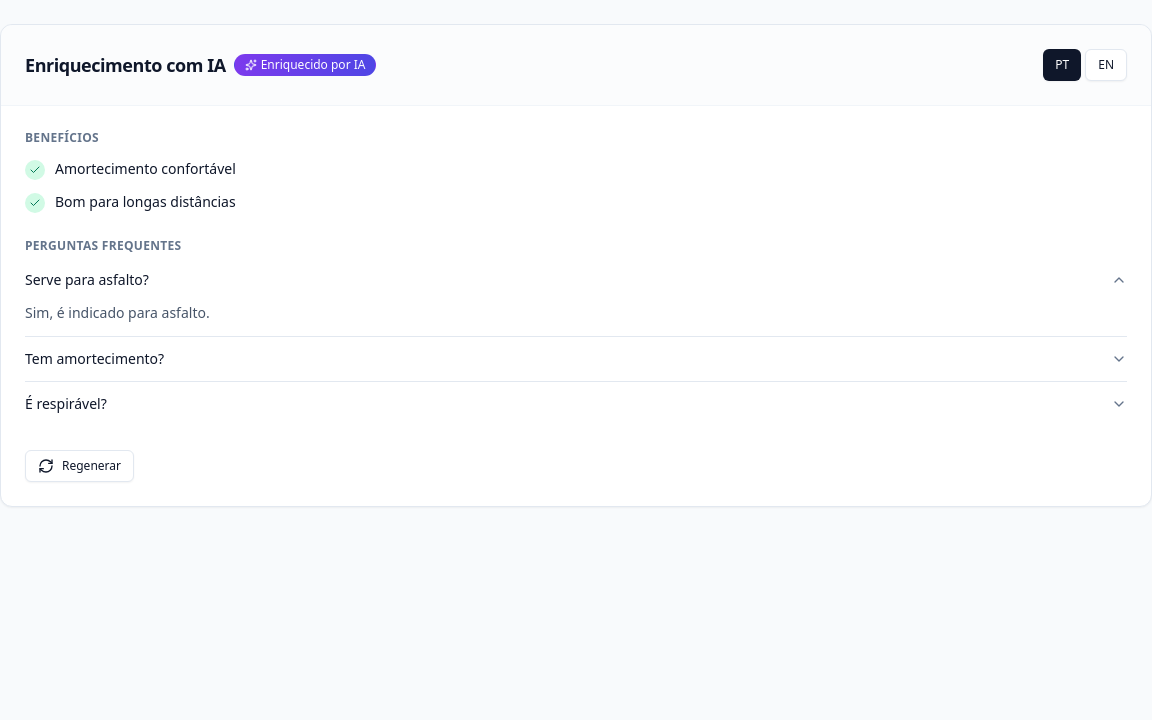
Test: ProductAIWidget — modo JSON › (h) trocar para EN dispara novo fetch com locale 'en' e traduz a UI
Expected: the text "Amortecimento confortável" is shown, [55,158,236,181]
Click the button "EN" at point(1106, 65), box [1085,49,1127,81]
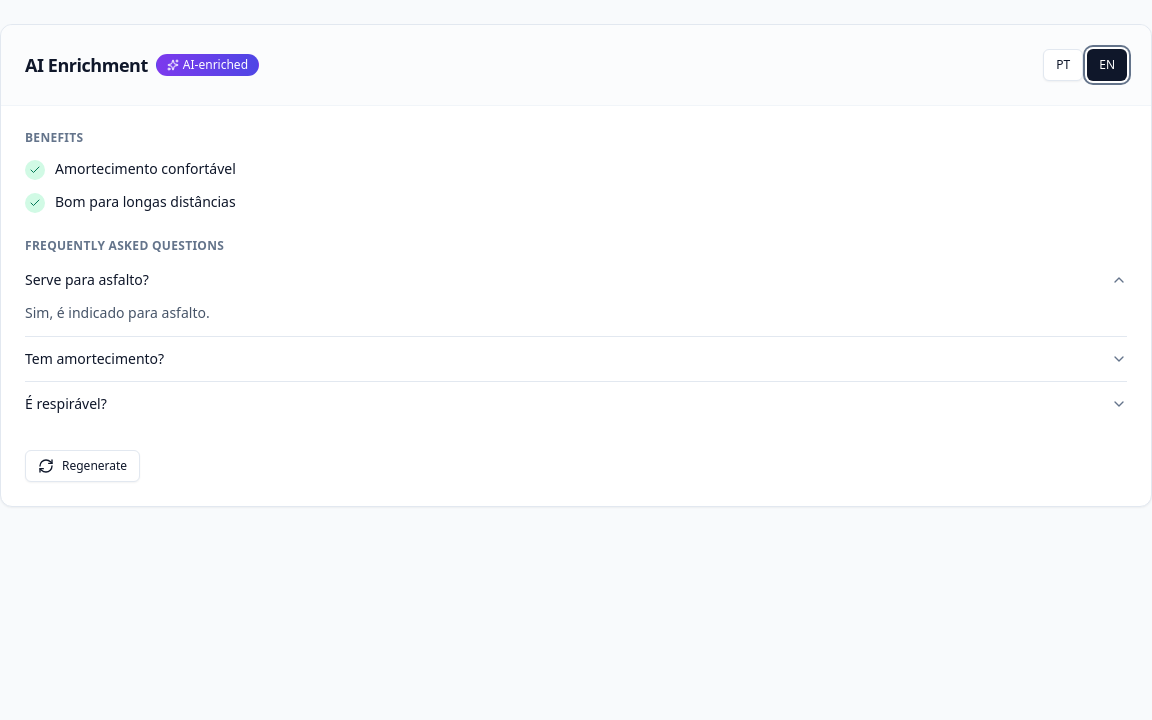
Result: the heading "Benefits" is shown at [25,129,84,146]
Result: the button "Regenerate" is shown at [25,450,140,482]
Result: the text "AI Enrichment" is shown at [25,53,148,77]
